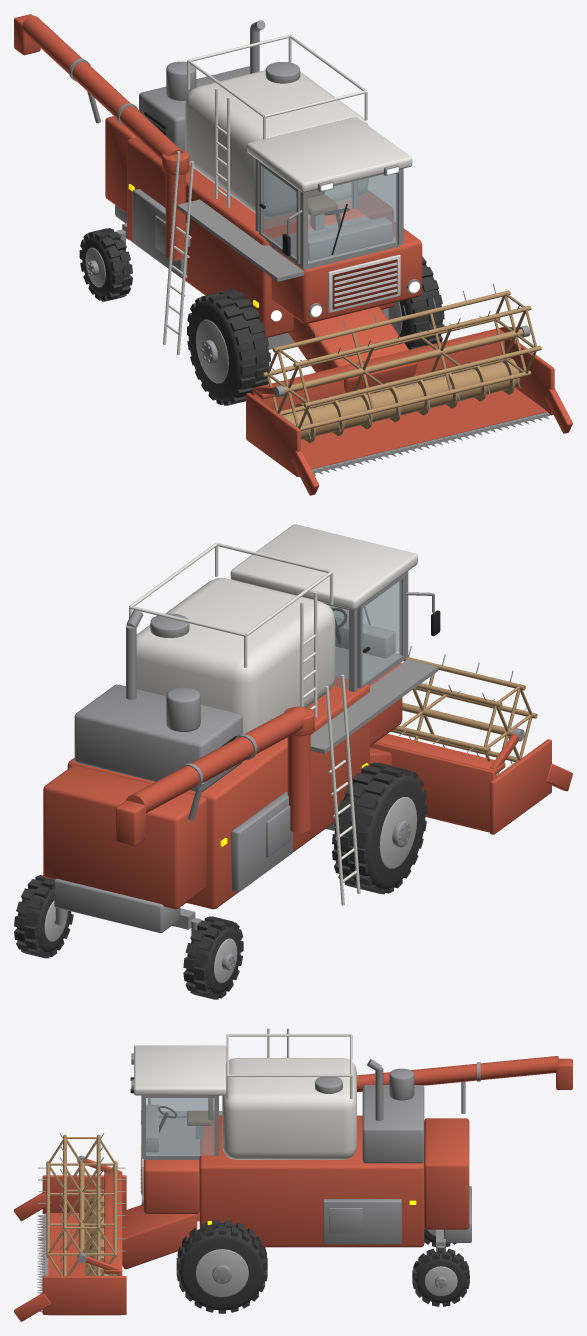
File: combine.glb
The picture shows the model from 3 angles, top to bottom: view 1: azimuth 30°, elevation 25°; view 2: azimuth 150°, elevation 25°; view 3: azimuth 270°, elevation 25°; orthographic projection. The views are drawn at different scales.
Visible parts, largest first — view 1: Корпус, Жатка, Мотовило, Колесо_ПЛ, Шнек, Колесо_ЗЛ, Двері, Колесо_ПП; view 2: Корпус, Жатка, Колесо_ПЛ, Шнек, Мотовило, Двері, Колесо_ЗЛ, Колесо_ЗП; view 3: Корпус, Жатка, Колесо_ПП, Мотовило, Шнек, Колесо_ЗП, Двері.
Boxes of the visible parts, box(x1,y1,x2,y2) form: Корпус: box(87, 20, 422, 354); Жатка: box(246, 306, 572, 495); Мотовило: box(262, 283, 541, 439); Колесо_ПЛ: box(187, 289, 270, 405); Шнек: box(14, 14, 189, 175); Колесо_ЗЛ: box(79, 228, 132, 301); Двері: box(259, 161, 300, 263); Колесо_ПП: box(388, 256, 444, 349); Корпус: box(43, 524, 440, 932); Жатка: box(370, 728, 572, 834); Колесо_ПЛ: box(332, 762, 427, 894); Шнек: box(116, 706, 314, 846); Мотовило: box(390, 646, 537, 776); Двері: box(357, 573, 404, 688); Колесо_ЗЛ: box(183, 916, 243, 999); Колесо_ЗП: box(14, 875, 73, 958); Корпус: box(130, 1028, 471, 1251); Жатка: box(14, 1155, 199, 1321); Колесо_ПП: box(176, 1220, 267, 1313); Мотовило: box(38, 1133, 125, 1275); Шнек: box(357, 1056, 572, 1092); Колесо_ЗП: box(412, 1247, 469, 1306); Двері: box(148, 1098, 207, 1117).
Size of the model in its own units: 4.34 by 4.49 by 9.96.
